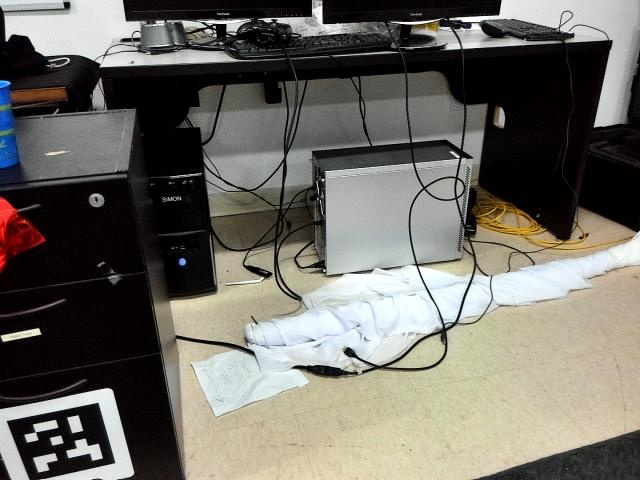water_cup: (1, 80, 22, 171)
